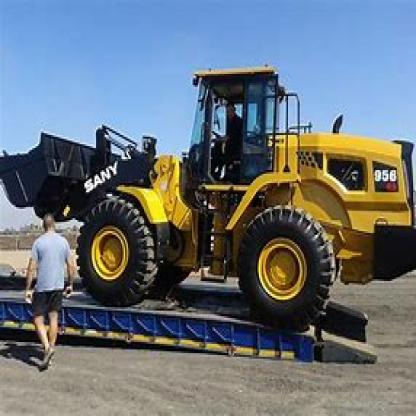bull_dozer/loader/grader: (0, 55, 415, 338)
